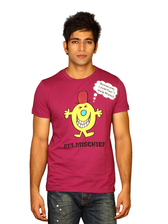clothoes: (30, 67, 134, 197)
